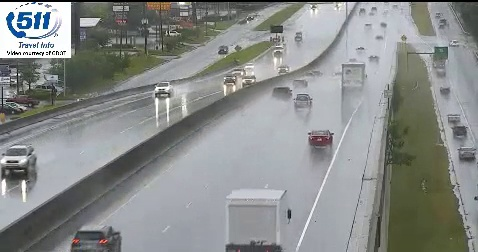car: (72, 225, 122, 252), (308, 131, 333, 147), (294, 93, 312, 110)
small-truck: (226, 189, 287, 252), (340, 63, 367, 93)
